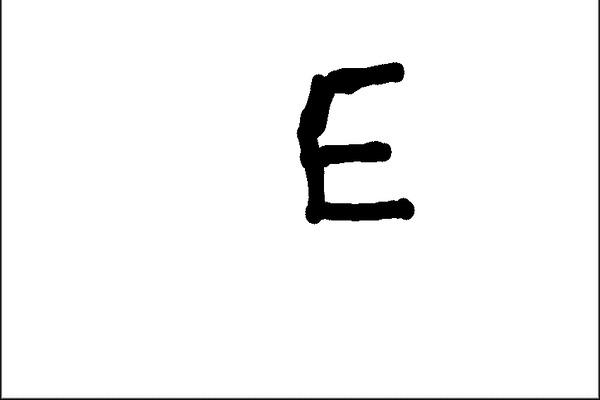E: (292, 58, 419, 225)
